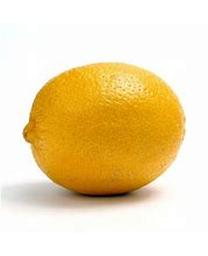lemon: (22, 64, 186, 195)
